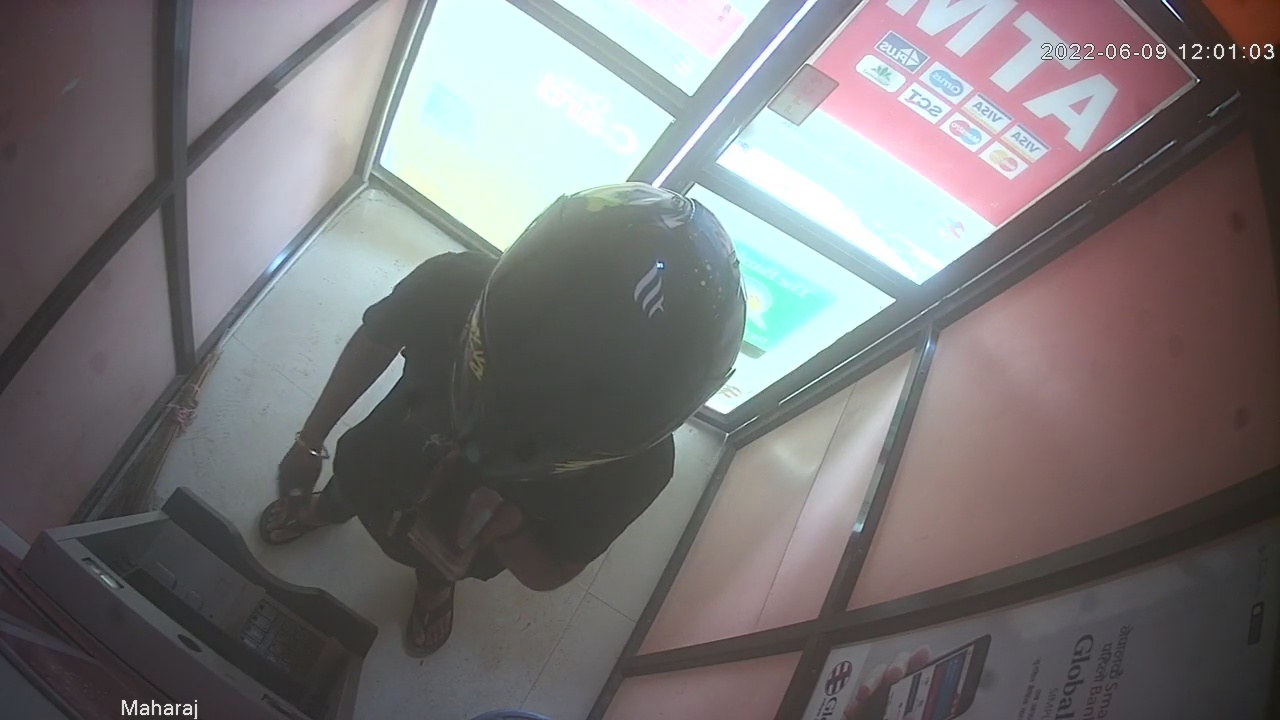helmet: (449, 183, 744, 486)
person: (257, 181, 747, 657)
